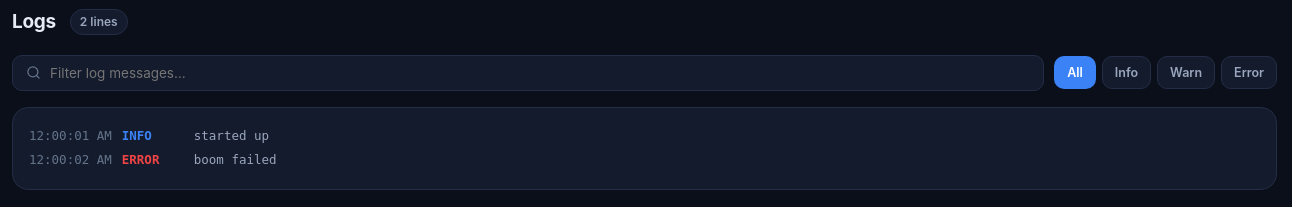
LogsView › renders all lines then filters by level
Expected: the text "started up" is shown, [194,126,269,145]
What coordinates should you click on to do the following:
click the button "Error"
I would click on:
 (1249, 72)
Its box is [1221,56,1277,89].
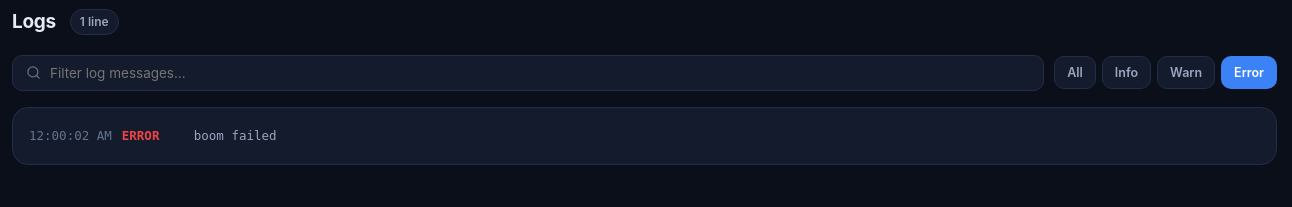
Expected: the text "started up" is gone
Expected: the text "boom failed" is shown, [194,126,277,145]
